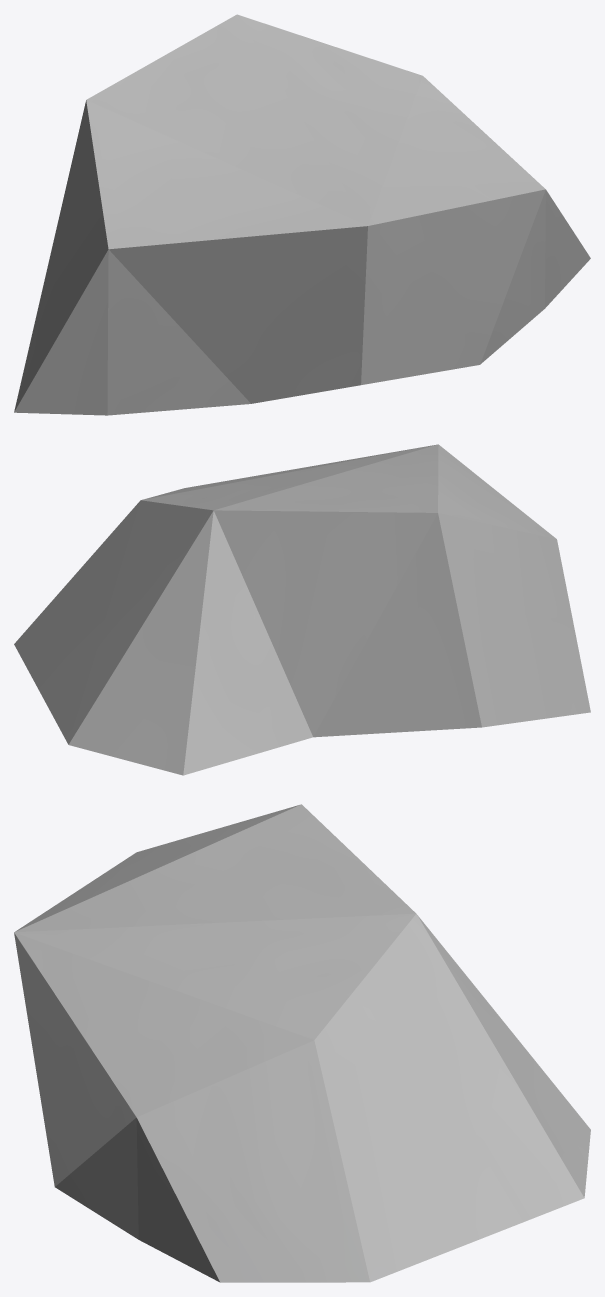
File: Rock5.fbx
3 views of the same model, one above another, from view 1: azimuth 30°, elevation 25°; view 2: azimuth 150°, elevation 25°; view 3: azimuth 270°, elevation 25° (orthographic). The views are drawn at different scales.
Parts seen in each view (by area): view 1: Rock5; view 2: Rock5; view 3: Rock5.
Part boxes in pixels (left/top/right/bottom): Rock5: left=14, top=14, right=590, bottom=415; Rock5: left=14, top=444, right=590, bottom=775; Rock5: left=14, top=804, right=590, bottom=1282.
Size of the model in its own units: 8.5 by 3.34 by 7.06.
